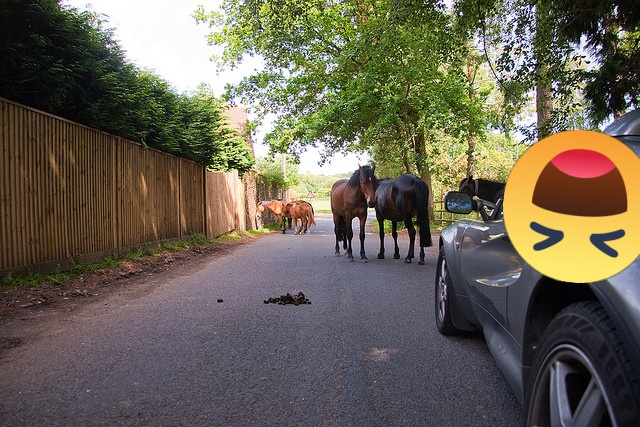haha: (503, 130, 640, 283)
